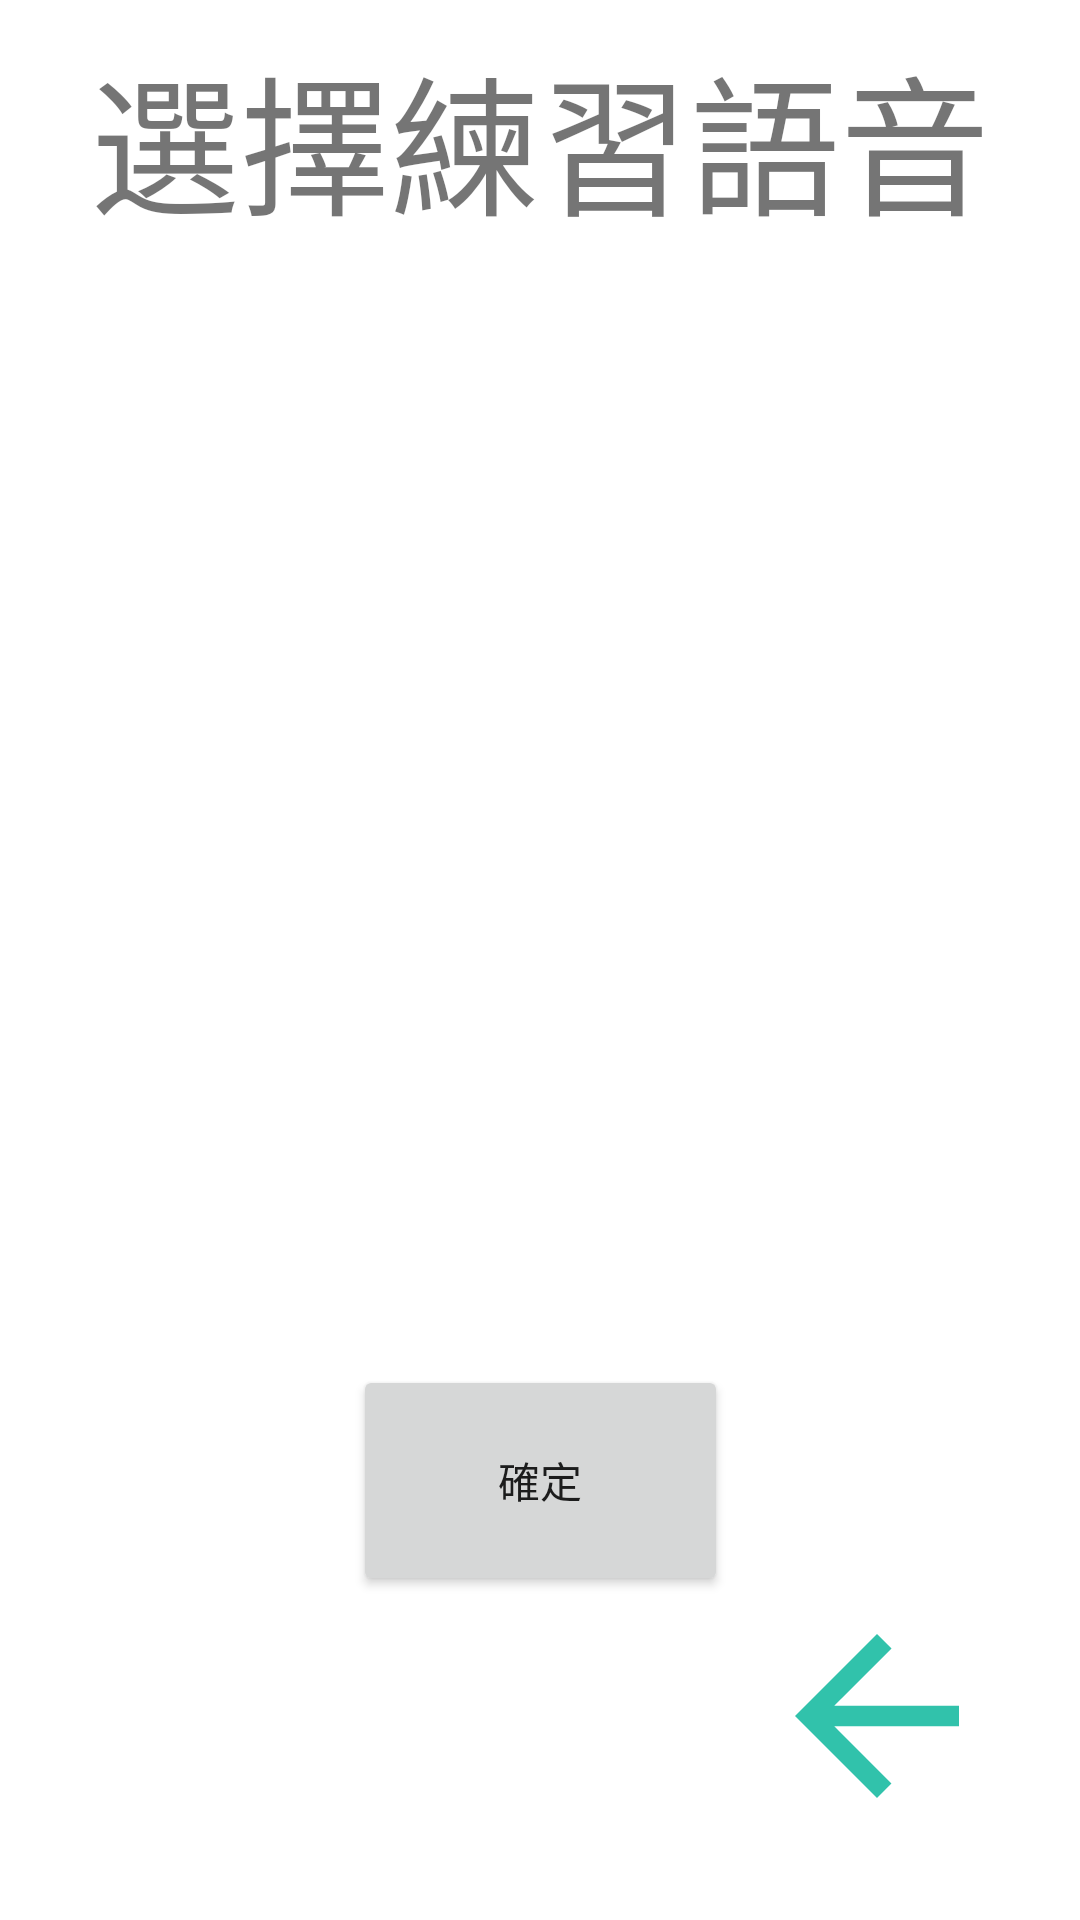

Named icons in this screenshot (1080×1920) and their centers, (x,y):
arrow back: (877,1716)
